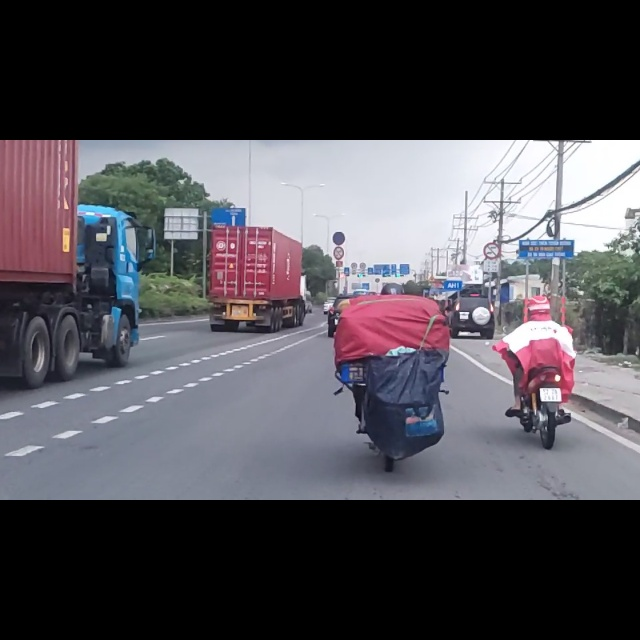bien_chi_dan: (484, 183, 501, 212), (331, 162, 346, 186), (334, 190, 344, 213)
